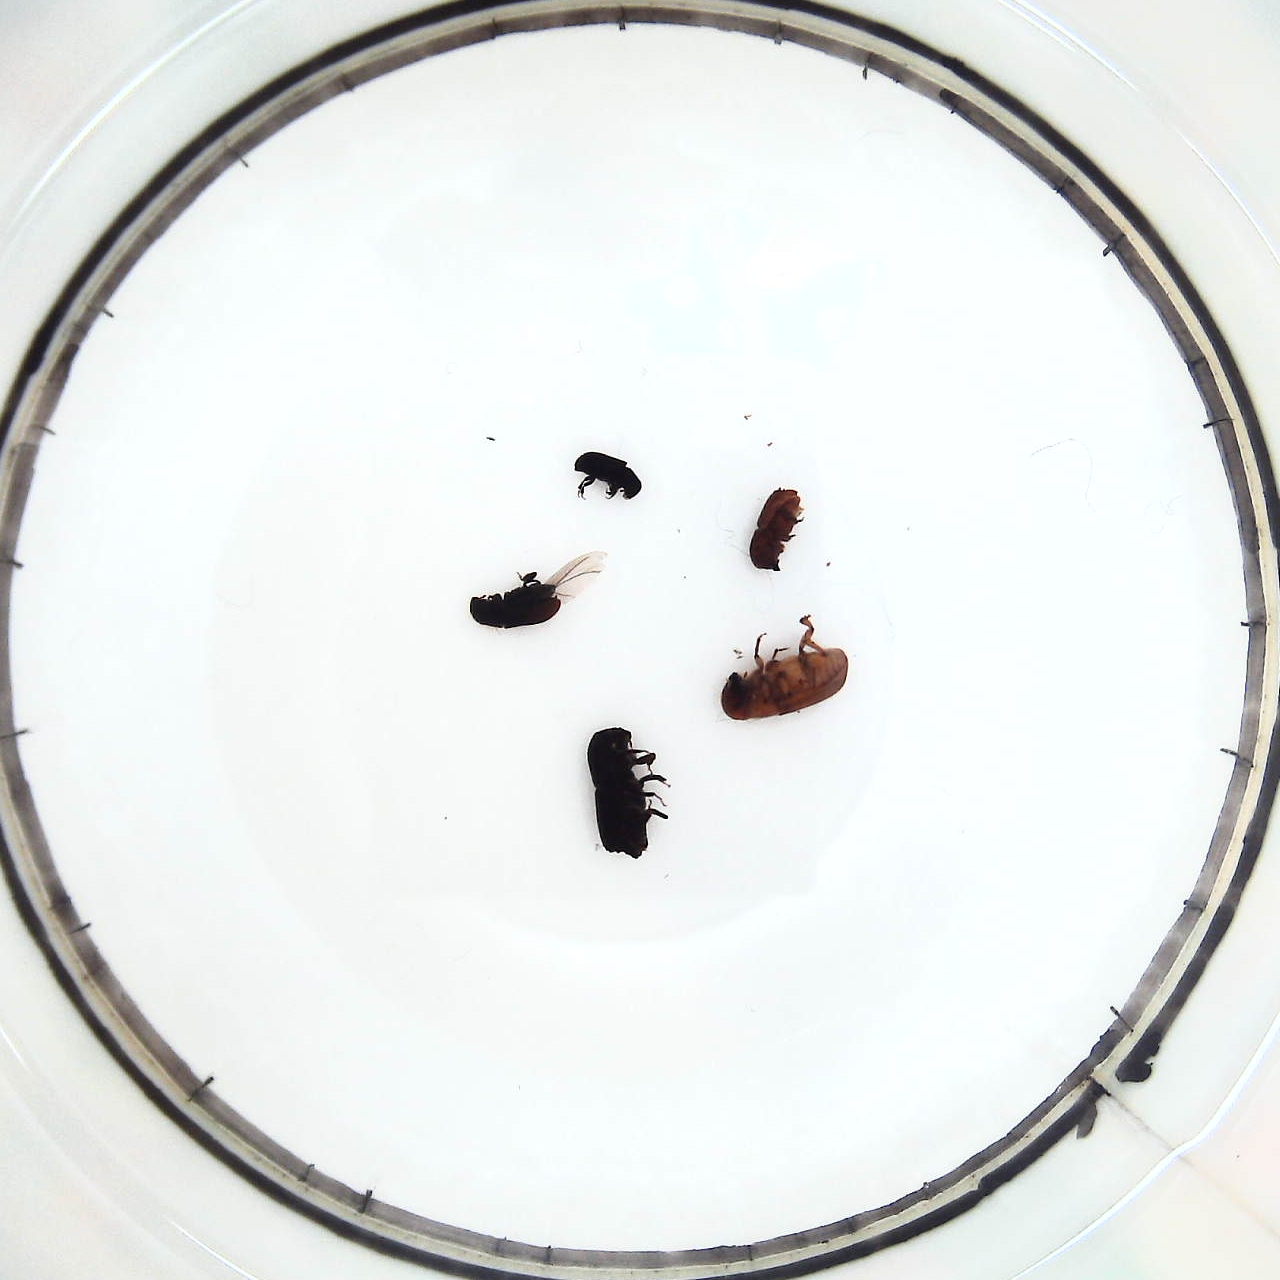Boerner: (581, 726, 676, 867)
Leconte: (717, 613, 862, 723)
armandi: (471, 557, 598, 629)
coleoptera: (566, 450, 642, 509)
linnaeus: (749, 484, 808, 579)
